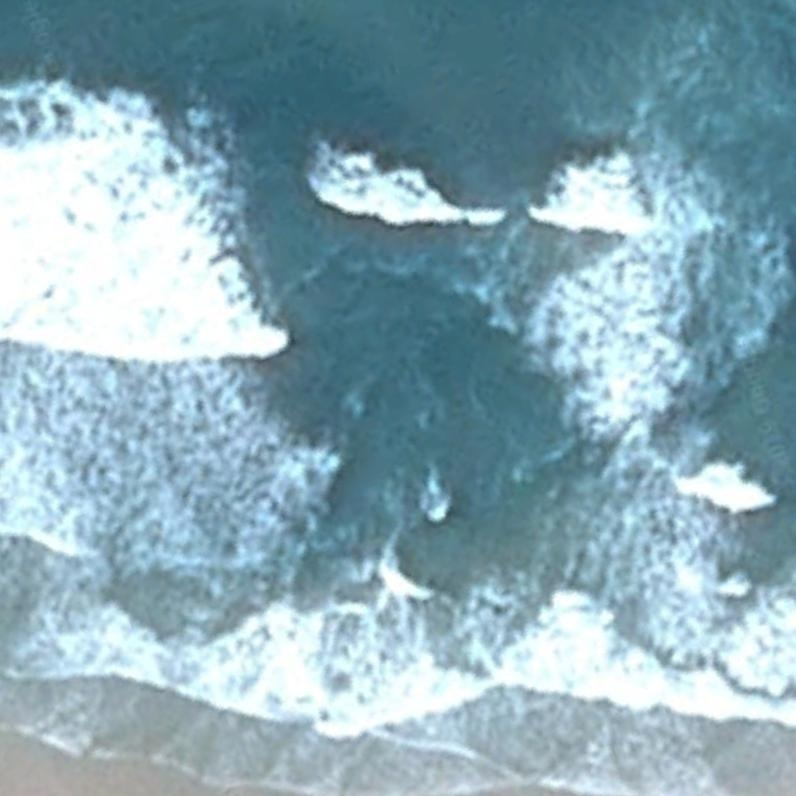rip_current: (156, 74, 621, 641)
